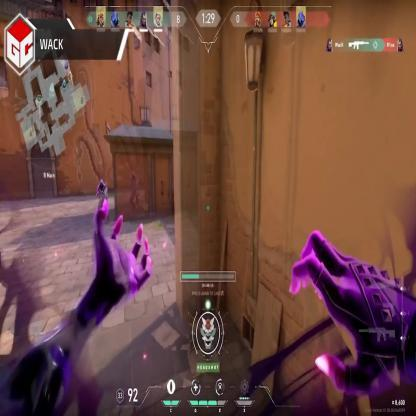enemy: (96, 178, 109, 220)
enemy_head: (99, 180, 104, 190)
